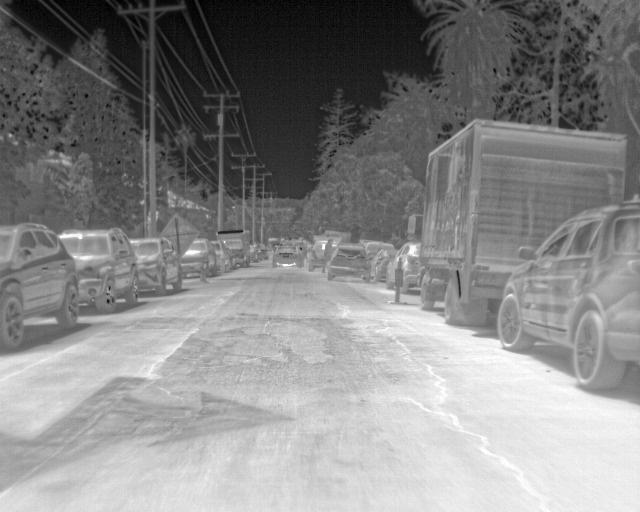bicycle: (494, 201, 639, 394), (0, 222, 79, 355), (57, 228, 139, 312), (125, 237, 183, 297), (328, 242, 372, 284), (386, 241, 421, 293), (185, 239, 215, 277), (269, 241, 304, 269), (365, 239, 393, 273), (306, 239, 334, 272)
